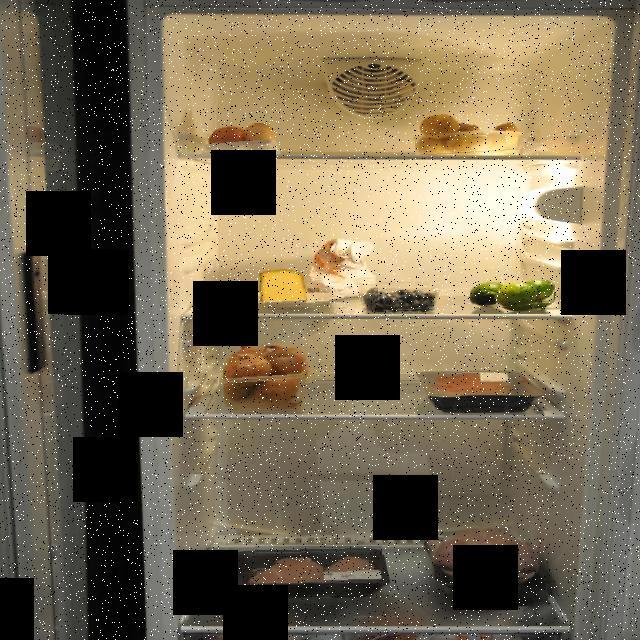beef: (428, 366, 529, 410)
blueberries: (366, 290, 439, 312)
cheese: (254, 269, 306, 307)
chicken: (427, 522, 546, 602)
chicken_breast: (232, 546, 382, 598)
eggs: (206, 123, 281, 153)
flour: (308, 230, 380, 308)
lime: (470, 280, 556, 310)
onion: (223, 340, 310, 408)
potato: (415, 114, 527, 156)
